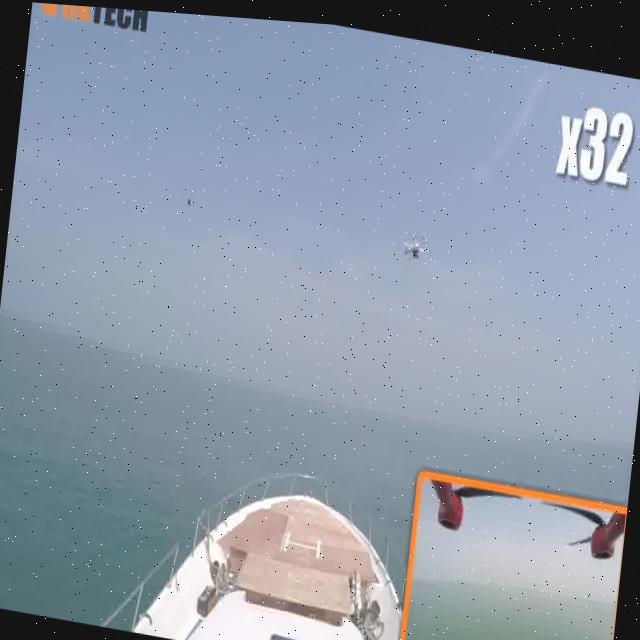drone: (388, 205, 441, 274), (172, 179, 205, 212)
